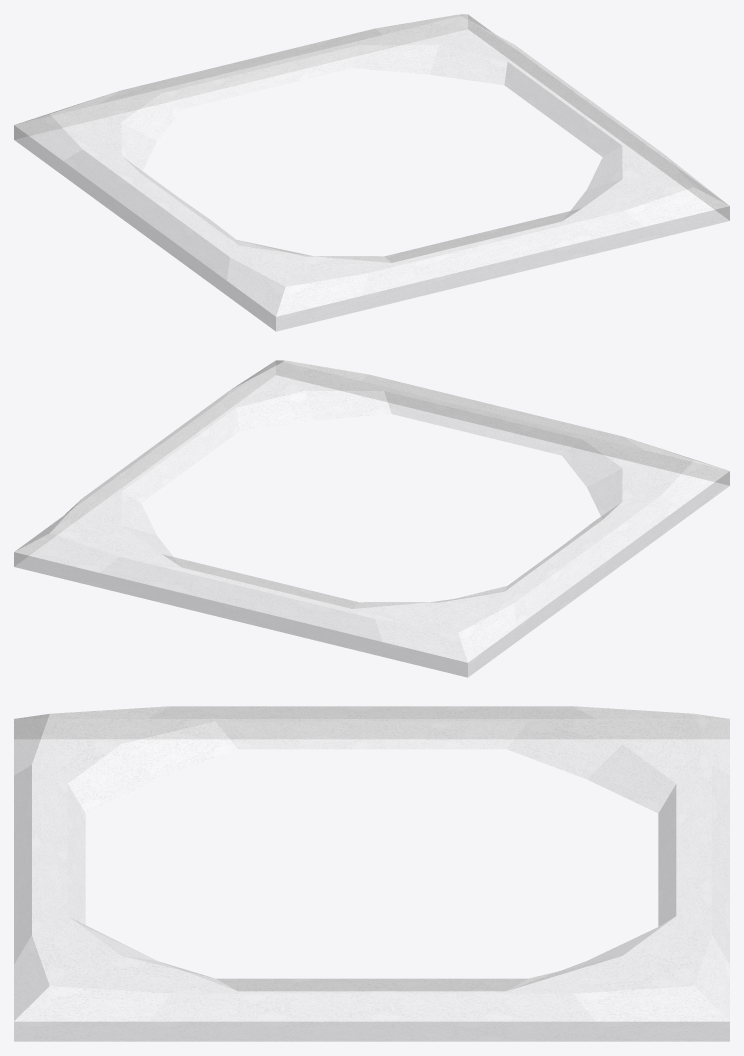
File: FieldBorder.obj
The picture shows the model from 3 angles, top to bottom: view 1: azimuth 30°, elevation 25°; view 2: azimuth 150°, elevation 25°; view 3: azimuth 270°, elevation 25°; orthographic projection. The views are drawn at different scales.
Visible parts, largest first — view 1: FieldBorder; view 2: FieldBorder; view 3: FieldBorder.
Part boxes in pixels (x1,y1,x2,y2): FieldBorder: (14, 14, 729, 331); FieldBorder: (14, 360, 729, 677); FieldBorder: (14, 706, 729, 1041).
Size of the model in its own units: 0.8 by 0.05 by 0.8.
Materials: 1 (1 with a texture image).
